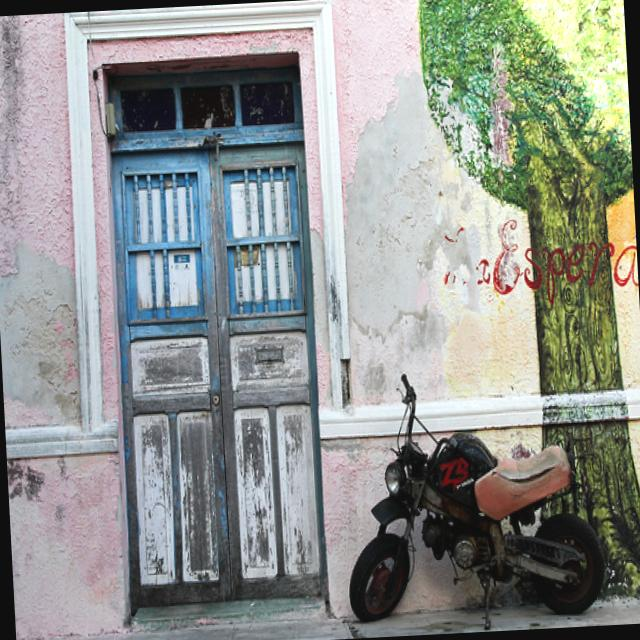Vehicle: (334, 376, 612, 639)
